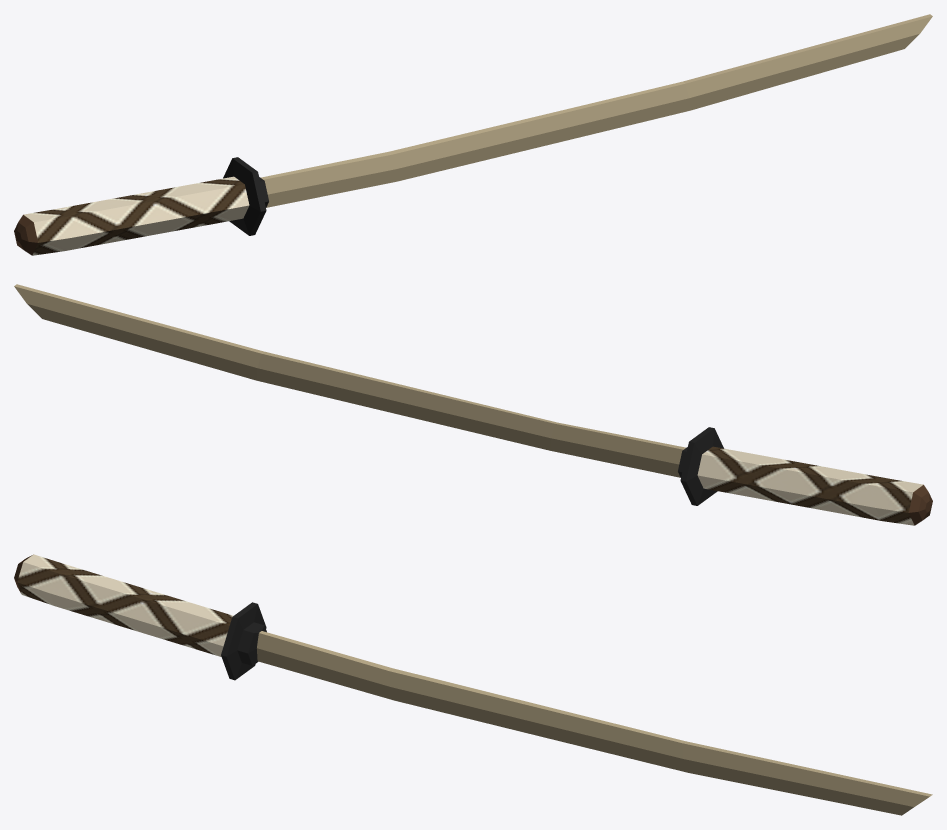
File: Wooden_Sword_1.fbx
The picture shows the model from 3 angles, top to bottom: view 1: azimuth 30°, elevation 25°; view 2: azimuth 150°, elevation 25°; view 3: azimuth 330°, elevation 25°; orthographic projection.
Visible parts, largest first — view 1: Bokuto.001; view 2: Bokuto.001; view 3: Bokuto.001.
Boxes of the visible parts, bbox=[...] form: Bokuto.001: bbox=[14, 14, 932, 255]; Bokuto.001: bbox=[14, 284, 932, 525]; Bokuto.001: bbox=[14, 554, 932, 815].
Bounding box in the file's own units: 112 × 7.39 × 8.5.
